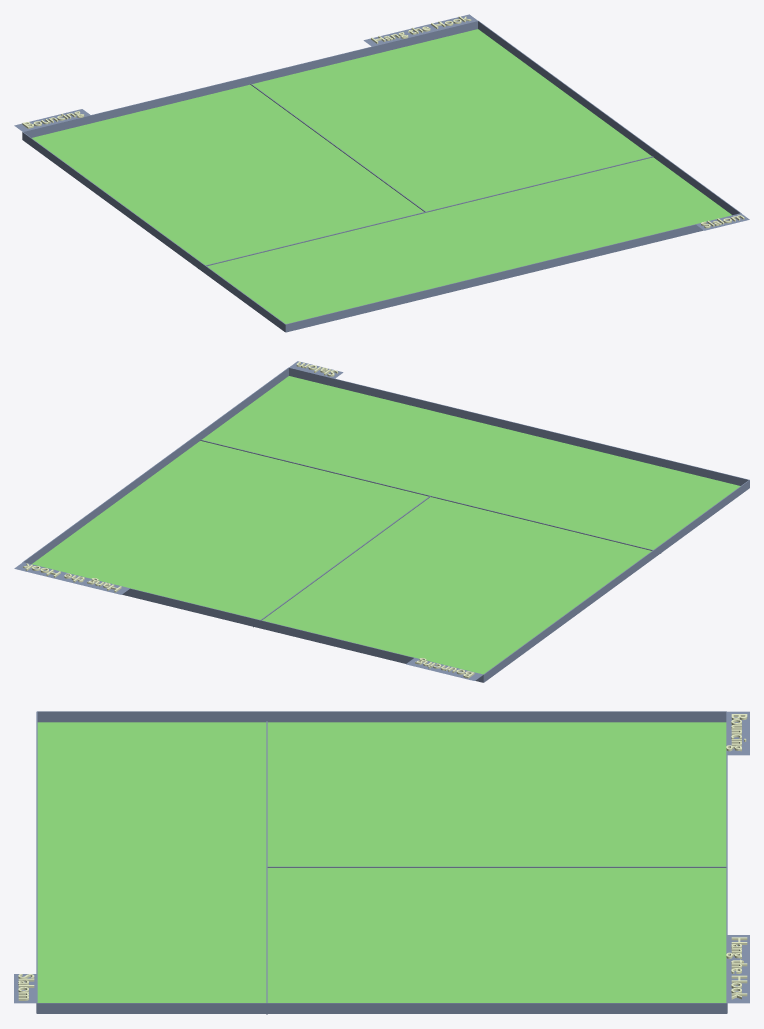
File: eletroquad_arena.dae
The picture shows the model from 3 angles, top to bottom: view 1: azimuth 30°, elevation 25°; view 2: azimuth 150°, elevation 25°; view 3: azimuth 270°, elevation 25°; orthographic projection. The views are drawn at different scales.
Parts seen in each view (by area): view 1: Plane; view 2: Plane; view 3: Plane.
Boxes of the visible parts, box(x1,y1,x2,y2) form: Plane: box(14, 14, 749, 332); Plane: box(14, 361, 749, 682); Plane: box(14, 711, 749, 1014).
Bounding box in the file's own units: 30.05 × 32 × 0.65.
